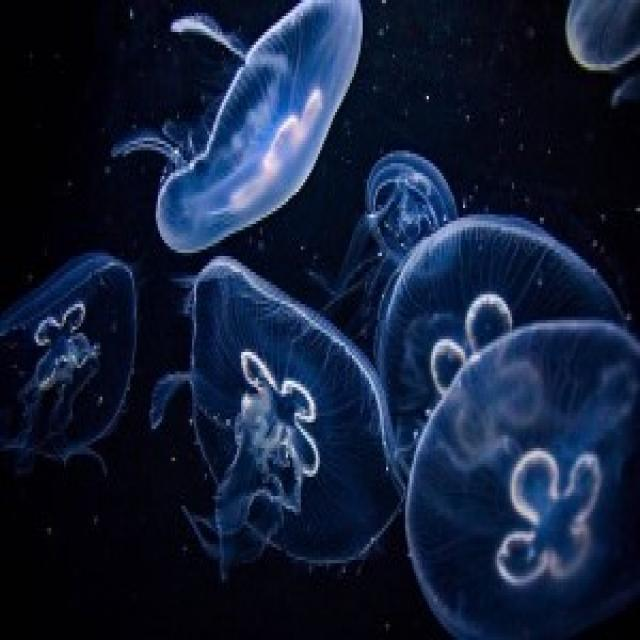Jellyfish: (171, 256, 392, 586), (410, 322, 638, 638), (153, 0, 366, 254), (366, 217, 626, 403), (0, 249, 140, 494), (360, 153, 464, 250)
